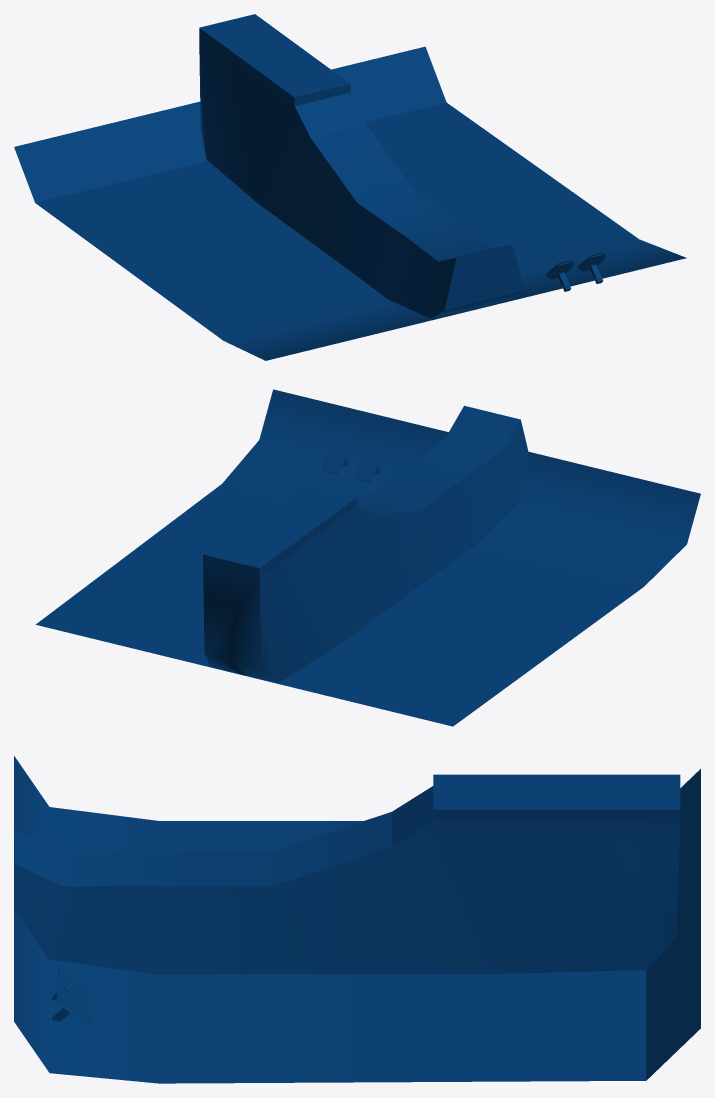
File: PickUp_PickUp_Floor.fbx
3 renders of one model, top to bottom at view 1: azimuth 30°, elevation 25°; view 2: azimuth 150°, elevation 25°; view 3: azimuth 270°, elevation 25°, orthographic. The views are drawn at different scales.
Visible parts, largest first — view 1: PickUp_PickUp_Floor; view 2: PickUp_PickUp_Floor; view 3: PickUp_PickUp_Floor.
Boxes of the visible parts, x1,y1,x2,y2 form: PickUp_PickUp_Floor: [14, 14, 686, 360]; PickUp_PickUp_Floor: [35, 389, 700, 726]; PickUp_PickUp_Floor: [14, 756, 700, 1083].
Bounding box in the file's own units: 152 × 42.06 × 165.
